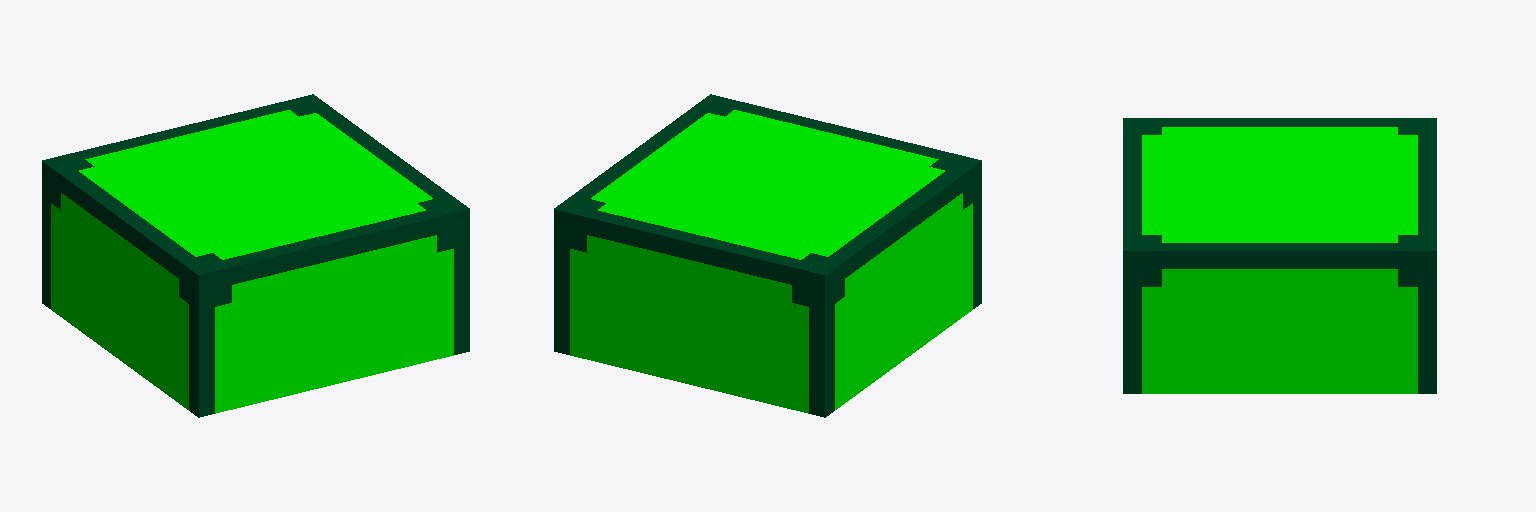
3 renders of one model, left to right at view 1: azimuth 30°, elevation 25°; view 2: azimuth 150°, elevation 25°; view 3: azimuth 270°, elevation 25°, orthographic.
Visible parts, largest first — view 1: 1_green; view 2: 1_green; view 3: 1_green.
Part boxes in pixels (x1,y1,x2,y2): 1_green: (42,94,469,417); 1_green: (554,94,981,417); 1_green: (1123,118,1436,393).
Bounding box in the file's own units: 1 × 0.5 × 1.
1 materials, 1 textured.